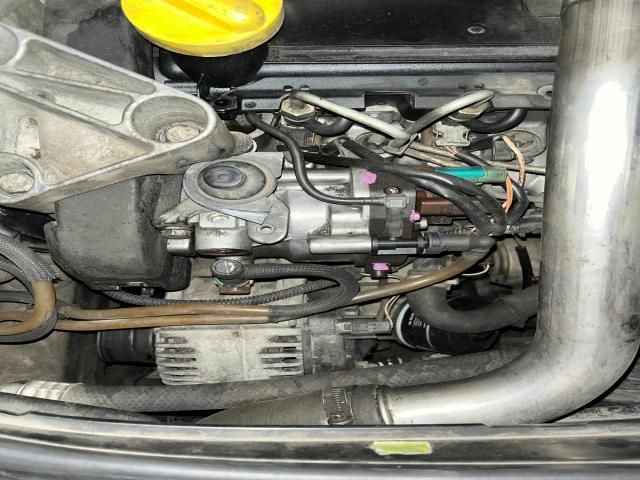alternator: (153, 319, 305, 385)
high_pressure_pump: (187, 172, 480, 275), (308, 168, 415, 201)
